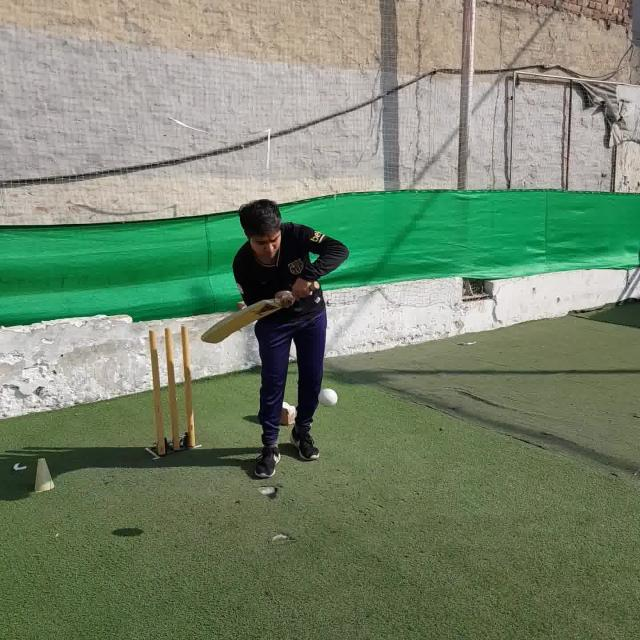ball: (319, 387, 337, 407)
bat: (202, 280, 322, 344)
